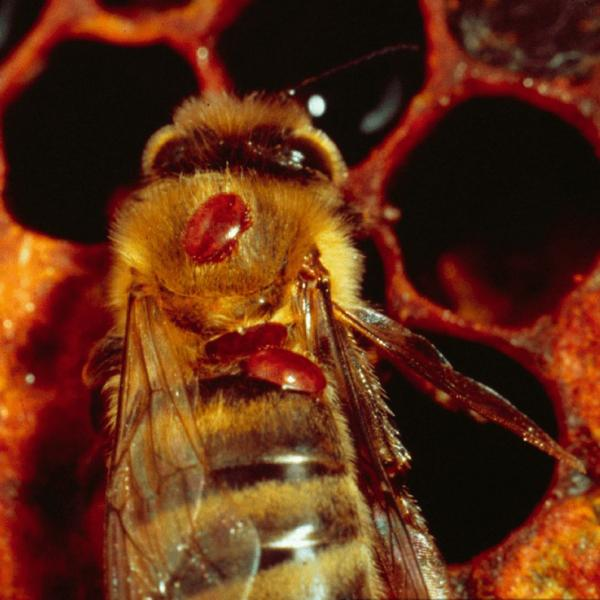Varrao: (183, 191, 255, 268), (245, 344, 330, 399)
